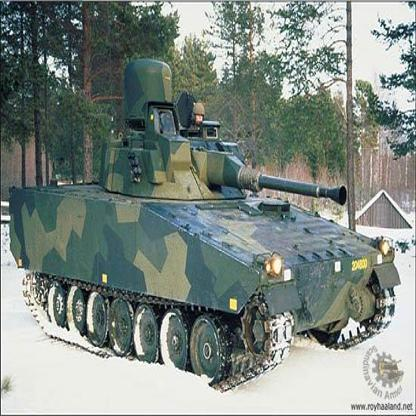Tank: (9, 56, 398, 395)
